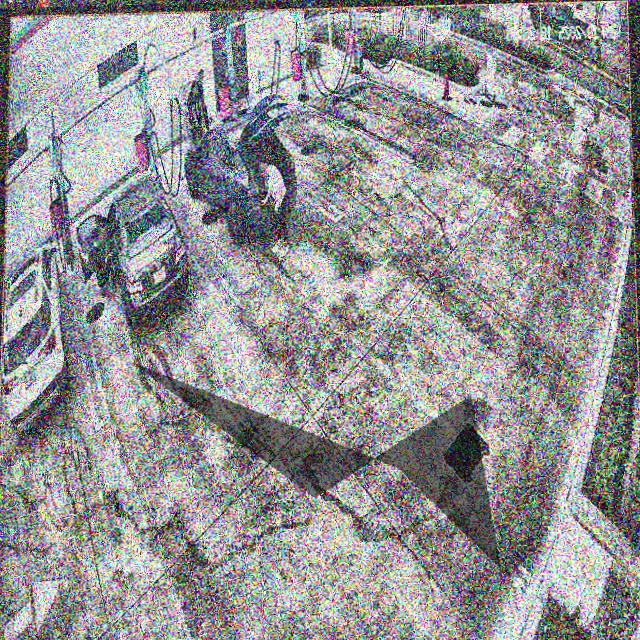Car: (184, 91, 294, 239), (82, 176, 188, 319)
